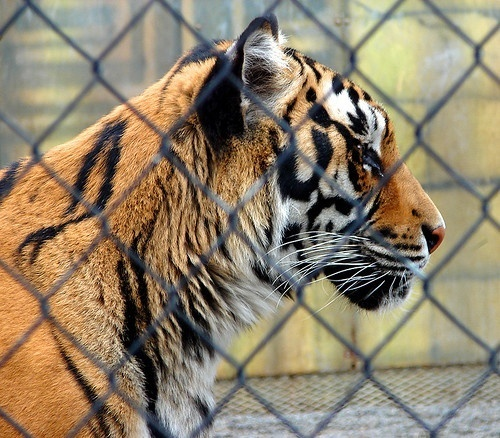tigre: (1, 13, 448, 438)
